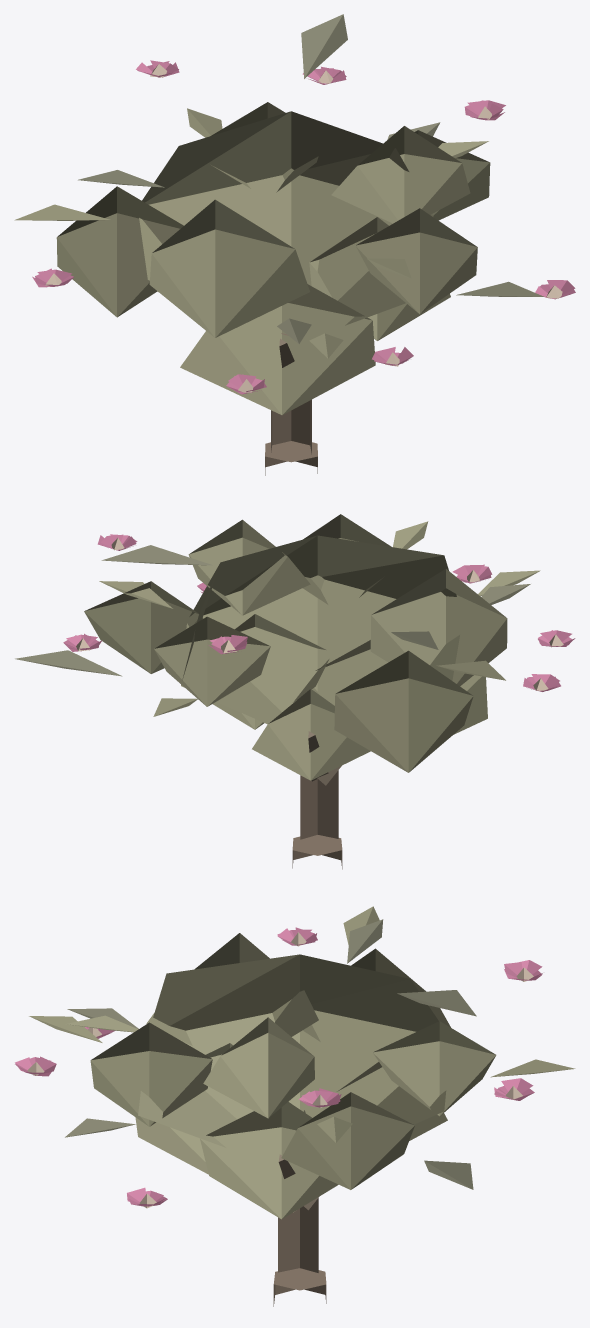
Rendered from shu.ganju@flowering__winter.glb.
3 renders of one model, top to bottom at view 1: azimuth 30°, elevation 25°; view 2: azimuth 150°, elevation 25°; view 3: azimuth 270°, elevation 25°, orthographic. The views are drawn at different scales.
Parts seen in each view (by area): view 1: shu.ganju@flowering__winter; view 2: shu.ganju@flowering__winter; view 3: shu.ganju@flowering__winter.
Part boxes in pixels (<box>): shu.ganju@flowering__winter: <box>14,14,575,475</box>; shu.ganju@flowering__winter: <box>15,514,575,869</box>; shu.ganju@flowering__winter: <box>15,906,575,1306</box>.
Size of the model in its own units: 7.36 by 5.12 by 7.37.
